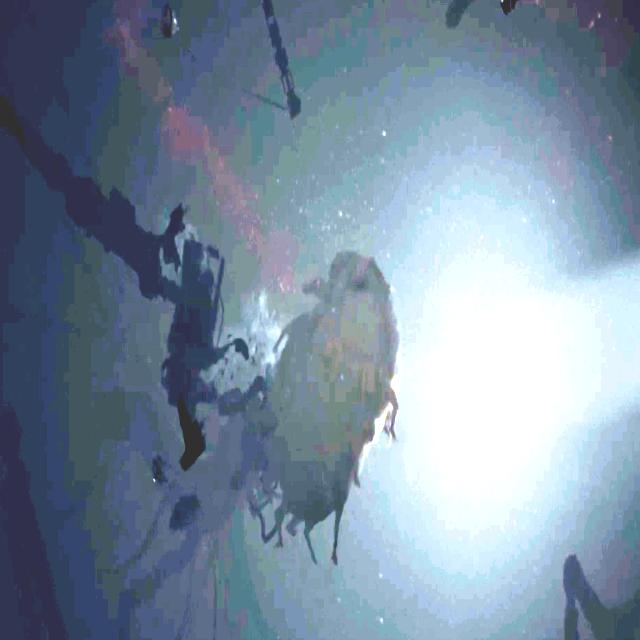blob: (263, 252, 399, 568)
interactible: (159, 3, 179, 40)
mechanism: (0, 75, 226, 462), (563, 552, 640, 640), (260, 0, 304, 120)
